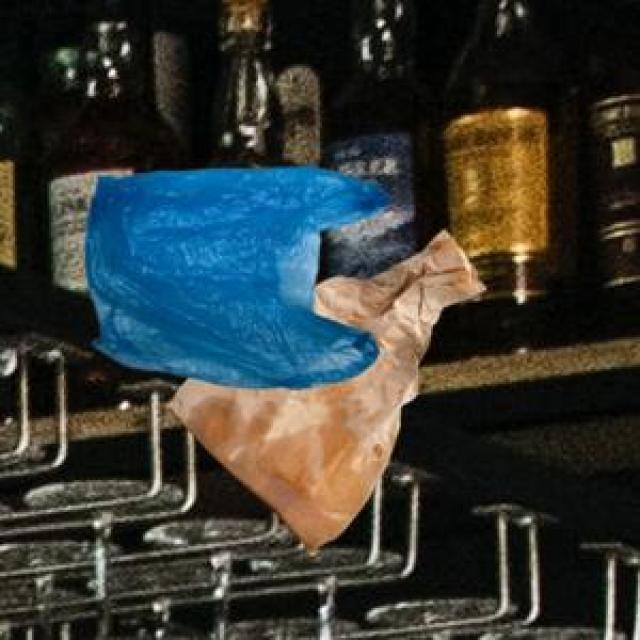paper: (160, 226, 482, 550)
